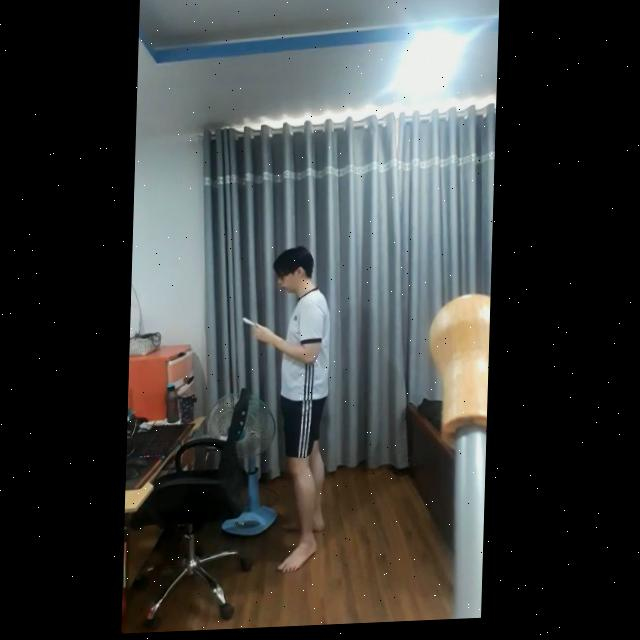cigarette: (245, 320, 257, 328)
